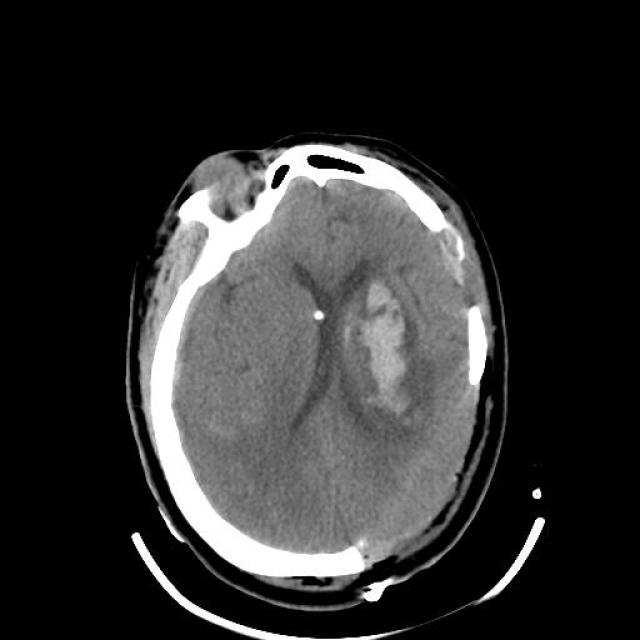Intraparenchymal: (321, 265, 430, 439)
Subdural: (160, 275, 220, 427)
